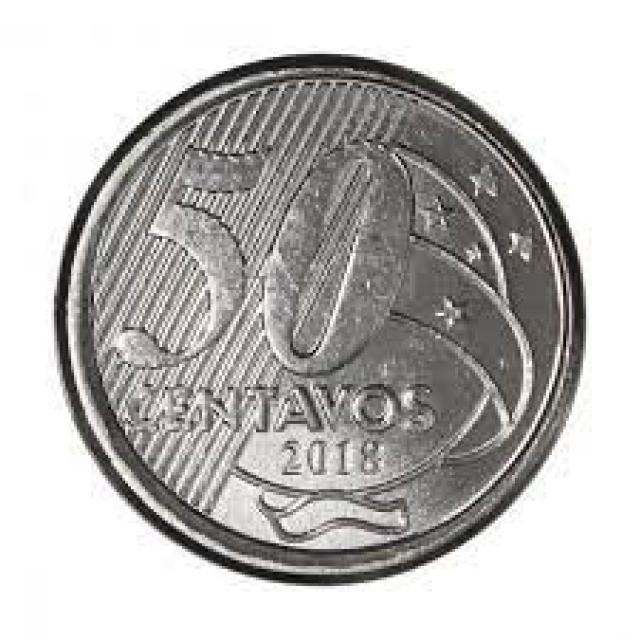50 cent: (53, 46, 596, 593)
